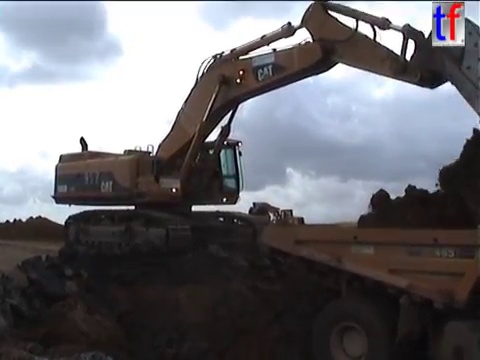excavator: (47, 1, 480, 257)
truck: (258, 220, 480, 360)
wheel loader: (245, 200, 308, 237)
